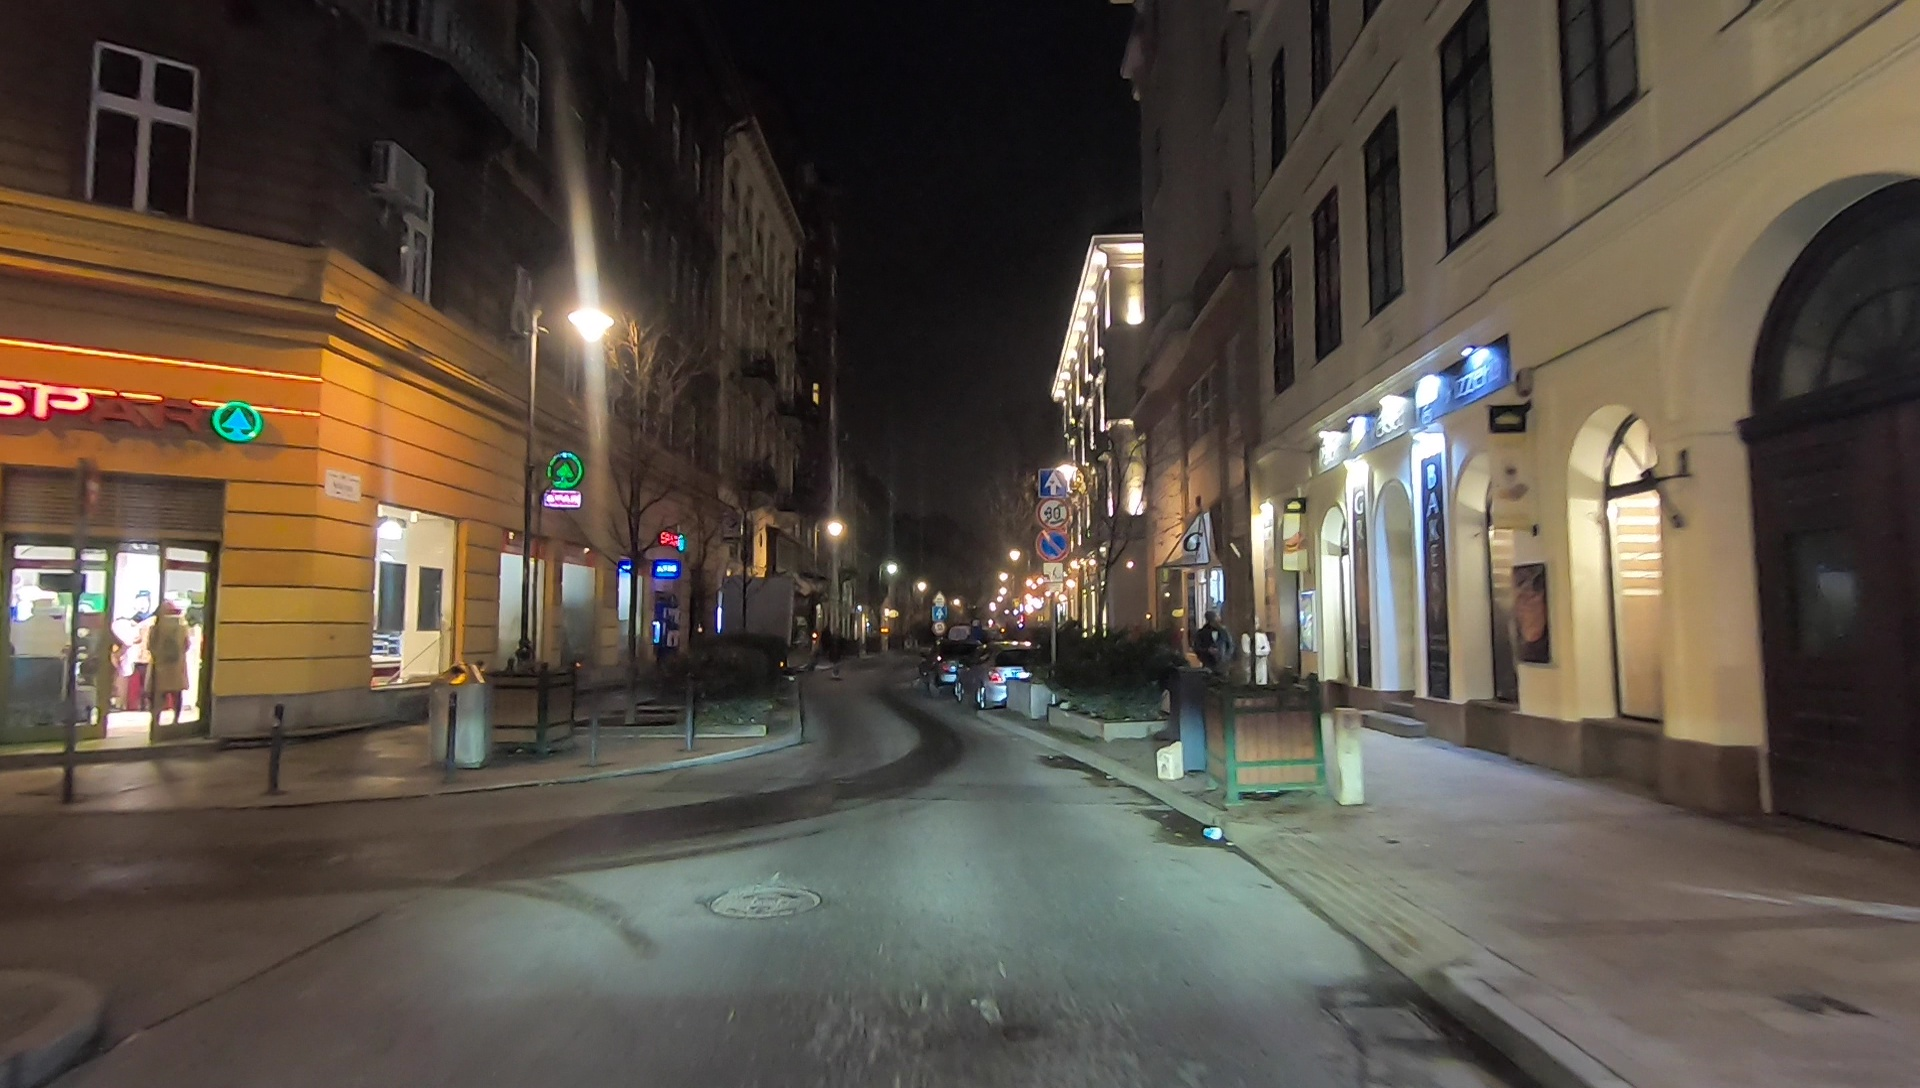person: (143, 604, 191, 734), (1239, 619, 1275, 706), (1195, 610, 1232, 693)
